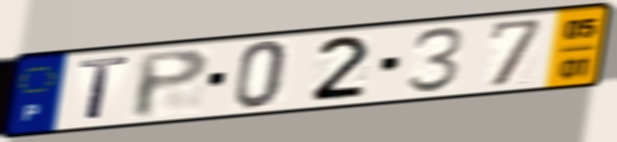0: (233, 38, 295, 112)
2: (309, 33, 376, 103)
3: (404, 25, 468, 95)
7: (487, 16, 546, 89)
P: (131, 46, 214, 121)
T: (76, 54, 132, 123)
